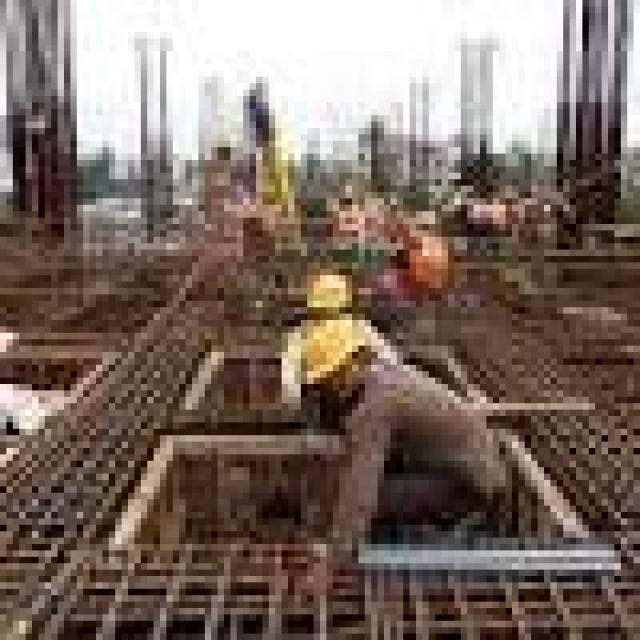Safety-Helmet: (294, 262, 372, 320)
